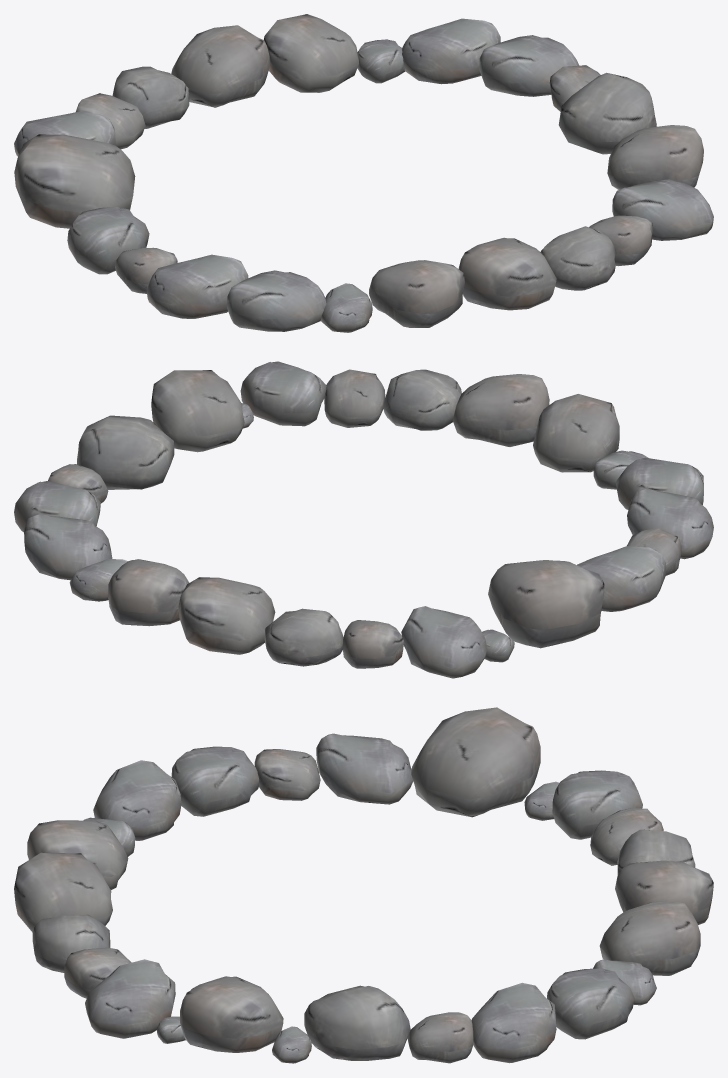
File: planter_rock_circle.fbx
3 renders of one model, top to bottom at view 1: azimuth 30°, elevation 25°; view 2: azimuth 150°, elevation 25°; view 3: azimuth 270°, elevation 25°, orthographic. The views are drawn at different scales.
Visible parts, largest first — view 1: planter_rock_circle; view 2: planter_rock_circle; view 3: planter_rock_circle.
Boxes of the visible parts, x1,y1,x2,y2 form: planter_rock_circle: (14,14,713,332); planter_rock_circle: (14,361,713,678); planter_rock_circle: (14,707,713,1063).
Size of the model in its own units: 301 by 37.41 by 298.
1 material, 1 textured.
